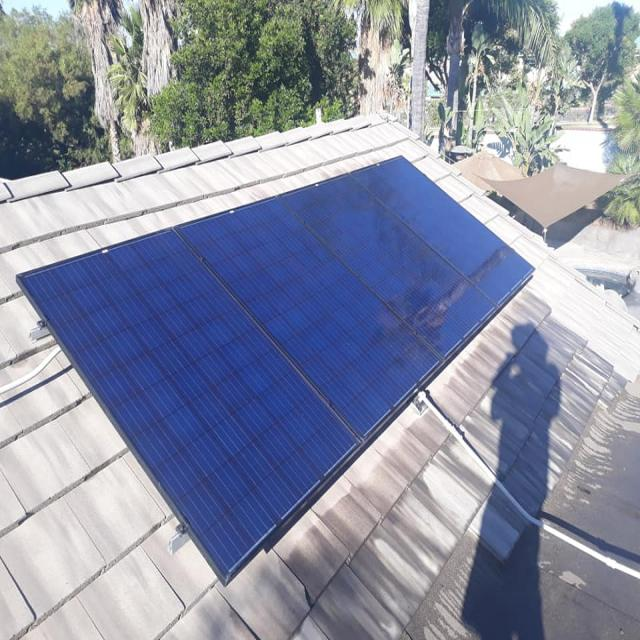no faulty: (22, 229, 356, 573), (179, 199, 441, 437), (286, 177, 494, 357), (354, 159, 531, 304)
